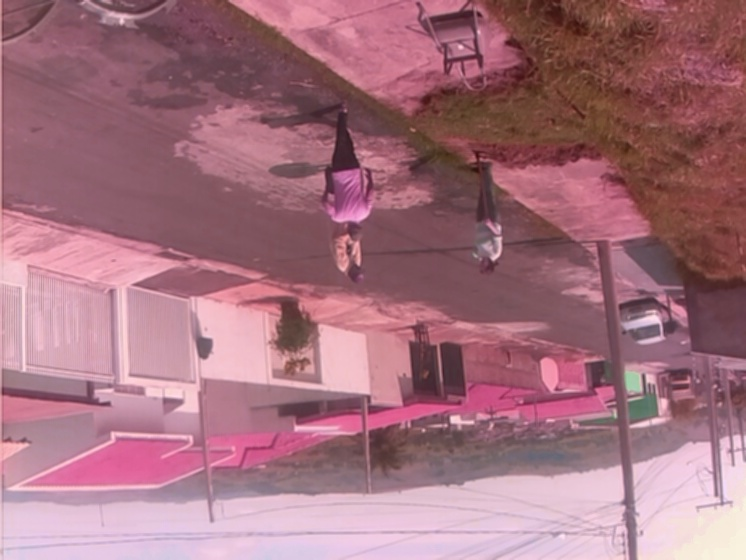person: (321, 103, 375, 241), (467, 161, 503, 275), (330, 221, 364, 283)
